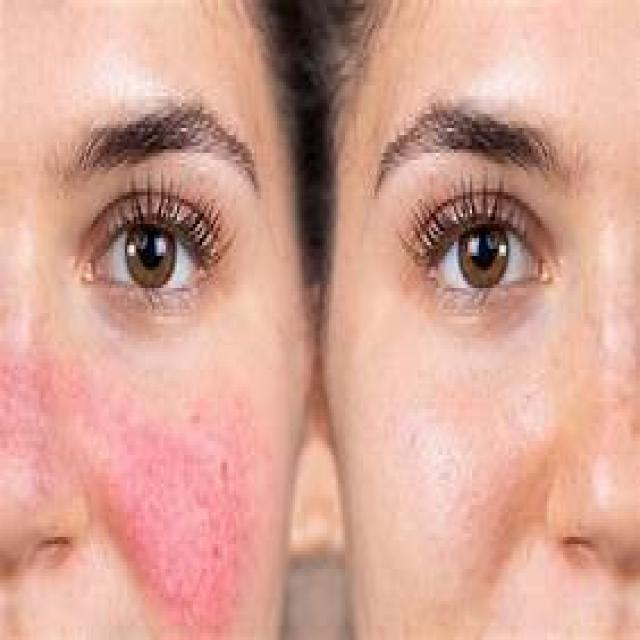Rosacea: (112, 436, 249, 616), (8, 348, 62, 490)
